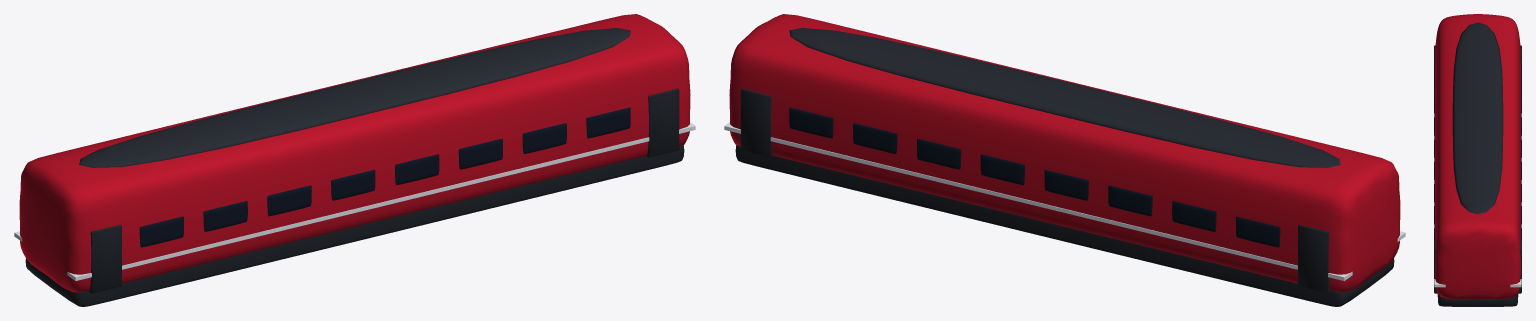
File: tren_iryo_coche.glb
The picture shows the model from 3 angles, left to right: view 1: azimuth 30°, elevation 25°; view 2: azimuth 150°, elevation 25°; view 3: azimuth 270°, elevation 25°; orthographic projection. The views are drawn at different scales.
Visible parts, largest first — view 1: CajaCoche, TechoCoche, Cube, Cube.001, Cube.011, Cube.010, Cube.009, Cube.004, Cube.005, Cube.006, Cube.003, Cube.008 (+2 smaller); view 2: CajaCoche, TechoCoche, Cube, Cube.001, Cube.011, Cube.010, Cube.009, Cube.004, Cube.005, Cube.006, Cube.003, Cube.008 (+2 smaller); view 3: CajaCoche, TechoCoche, Cube, Cube.011, Cube.001, Cube.010.
Boxes of the visible parts, bbox=[...] form: CajaCoche: bbox=[19, 14, 690, 292]; TechoCoche: bbox=[79, 28, 630, 167]; Cube: bbox=[25, 145, 684, 306]; Cube.001: bbox=[14, 122, 695, 280]; Cube.011: bbox=[646, 88, 679, 157]; Cube.010: bbox=[89, 224, 121, 293]; Cube.009: bbox=[586, 107, 630, 138]; Cube.004: bbox=[267, 185, 311, 216]; Cube.005: bbox=[331, 169, 375, 200]; Cube.006: bbox=[395, 154, 439, 185]; Cube.003: bbox=[203, 201, 247, 231]; Cube.008: bbox=[522, 123, 566, 153]; CajaCoche: bbox=[729, 14, 1400, 292]; TechoCoche: bbox=[789, 28, 1340, 167]; Cube: bbox=[735, 145, 1394, 306]; Cube.001: bbox=[724, 122, 1405, 280]; Cube.011: bbox=[740, 88, 773, 157]; Cube.010: bbox=[1298, 224, 1330, 293]; Cube.009: bbox=[789, 107, 833, 138]; Cube.004: bbox=[1108, 185, 1152, 216]; Cube.005: bbox=[1044, 169, 1088, 200]; Cube.006: bbox=[980, 154, 1024, 185]; Cube.003: bbox=[1172, 201, 1216, 231]; Cube.008: bbox=[853, 123, 897, 153]; CajaCoche: bbox=[1434, 14, 1521, 299]; TechoCoche: bbox=[1452, 22, 1503, 214]; Cube: bbox=[1437, 294, 1518, 306]; Cube.011: bbox=[1434, 239, 1521, 293]; Cube.001: bbox=[1434, 279, 1521, 287]; Cube.010: bbox=[1434, 45, 1521, 94].
Size of the model in its own units: 17.37 by 3.22 by 2.97.
